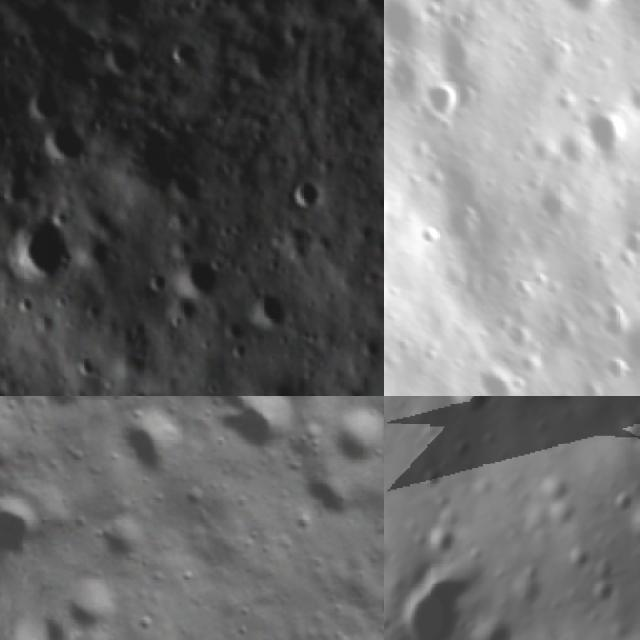crater: (287, 457, 375, 545), (106, 402, 192, 492), (203, 396, 309, 468), (315, 396, 384, 484), (393, 572, 478, 640), (54, 571, 132, 640), (92, 506, 159, 574), (13, 208, 64, 284), (577, 108, 638, 169), (384, 0, 432, 63), (27, 396, 101, 433), (421, 80, 464, 128), (438, 35, 482, 80), (548, 0, 620, 27), (43, 127, 88, 170), (180, 255, 223, 298), (465, 372, 530, 396), (362, 570, 384, 640), (588, 351, 627, 390), (252, 291, 291, 329), (592, 308, 632, 342), (546, 321, 581, 359), (425, 520, 458, 560), (286, 177, 328, 208), (473, 611, 516, 640), (166, 38, 198, 76), (501, 325, 540, 356), (447, 396, 496, 420), (22, 91, 62, 117), (624, 498, 640, 547), (141, 266, 167, 296), (412, 227, 440, 254), (71, 356, 100, 378), (533, 396, 586, 408), (572, 383, 603, 396)
